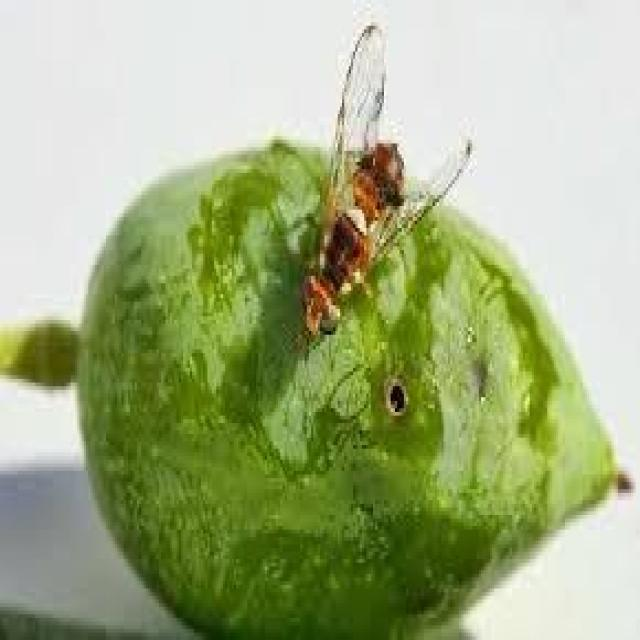Anthracnose: (18, 22, 632, 636)
